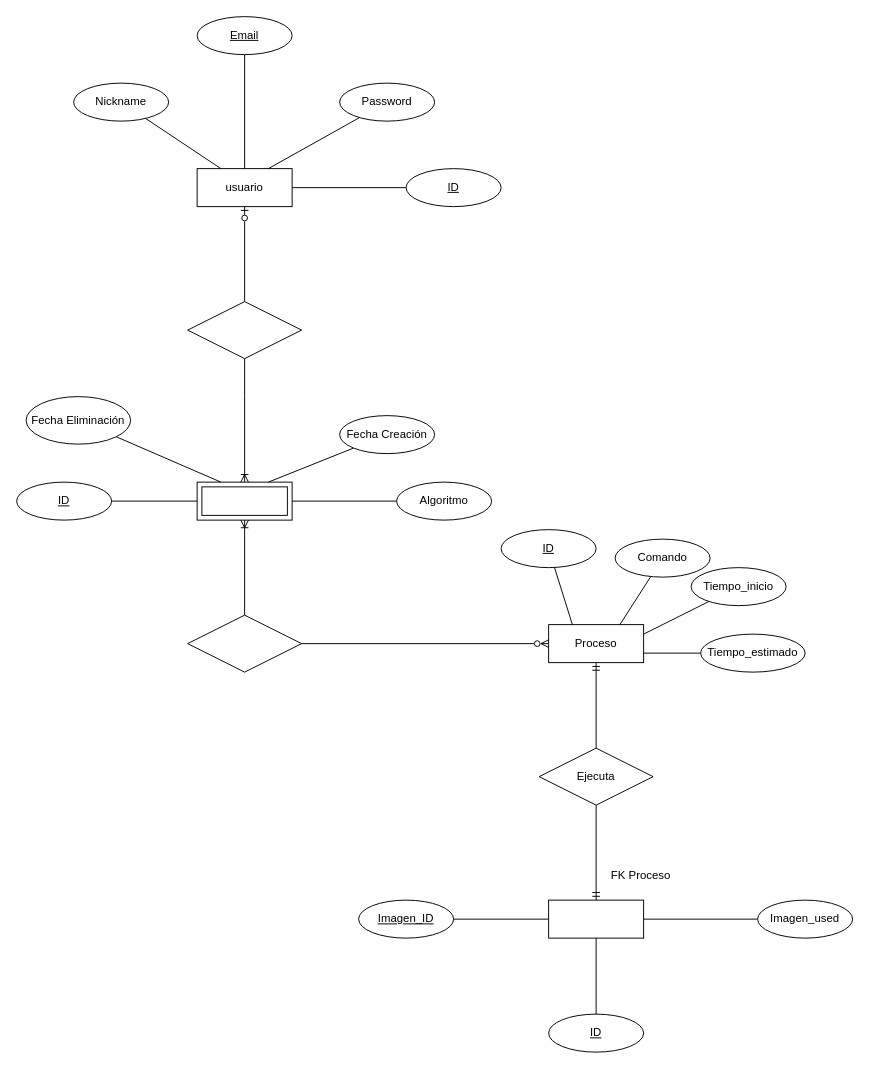
Image size: 869x1069. Some labels were removed from this diagram. The shapes that lost their labels are listed below. From the top down, each one's centre as x and y in pixels, then its label:
At (x=244, y=330): "Realiza".
At (x=244, y=500): "Ejecución".
At (x=244, y=643): "Contener/Estar".
At (x=596, y=918): "Imagen".
